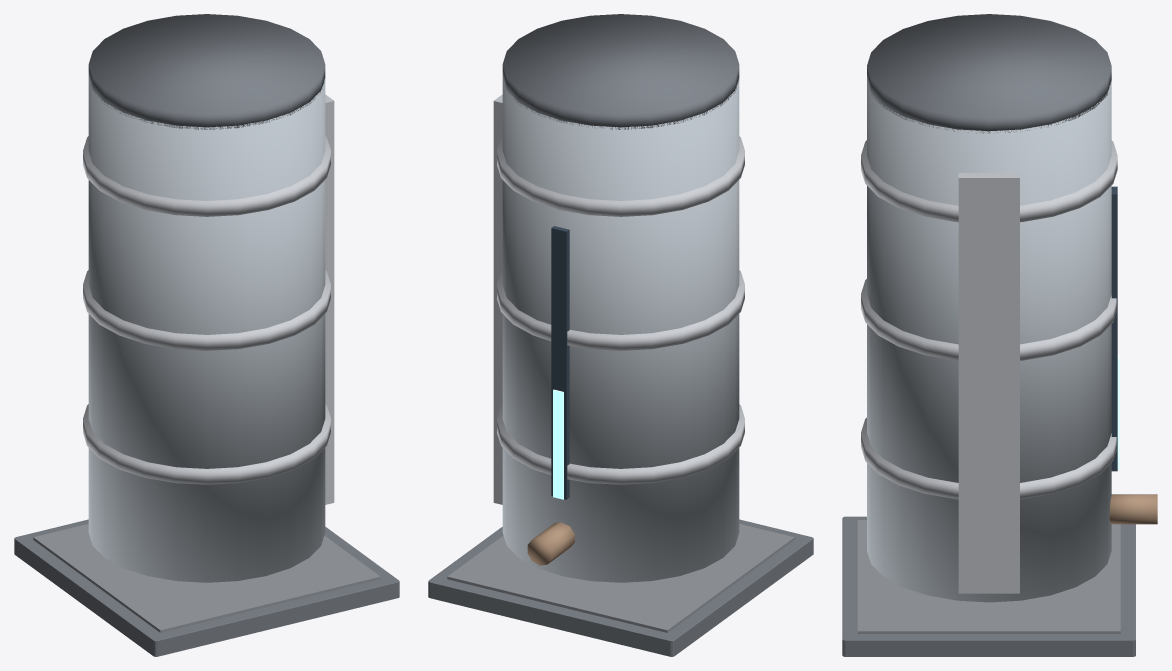
Rendered from tank.glb.
3 renders of one model, left to right at view 1: azimuth 30°, elevation 25°; view 2: azimuth 150°, elevation 25°; view 3: azimuth 270°, elevation 25°, orthographic. The views are drawn at different scales.
Parts seen in each view (by area): view 1: tank, tank_top, base_grate, base, ring5, ring15, ring10, ladder; view 2: tank, tank_top, base_grate, base, ring15, ring5, ring10, gauge, ladder, valve, gauge_glow; view 3: tank, ladder, tank_top, base_grate, base, ring15, ring5, ring10, gauge, valve.
Part boxes in pixels (x1,y1,x2,y2): tank: [88, 78, 325, 582]; tank_top: [88, 14, 325, 129]; base_grate: [33, 524, 380, 632]; base: [14, 519, 399, 656]; ring5: [83, 404, 330, 484]; ring15: [83, 136, 330, 216]; ring10: [83, 270, 330, 350]; ladder: [325, 94, 334, 504]; tank: [502, 78, 739, 582]; tank_top: [502, 14, 739, 129]; base_grate: [447, 524, 794, 632]; base: [428, 519, 813, 656]; ring15: [497, 136, 744, 216]; ring5: [497, 404, 744, 484]; ring10: [497, 270, 744, 350]; gauge: [551, 226, 569, 499]; ladder: [493, 94, 502, 504]; valve: [527, 522, 574, 565]; gauge_glow: [553, 389, 563, 499]; tank: [867, 81, 1111, 602]; ladder: [958, 173, 1019, 593]; tank_top: [867, 14, 1111, 133]; base_grate: [857, 520, 1120, 633]; base: [842, 516, 1135, 656]; ring15: [861, 140, 1117, 222]; ring5: [861, 417, 1116, 499]; ring10: [861, 279, 1116, 360]; gauge: [1111, 186, 1117, 471]; valve: [1109, 494, 1157, 524].
Bounding box in the file's own units: 0.96 × 1.91 × 1.03.
